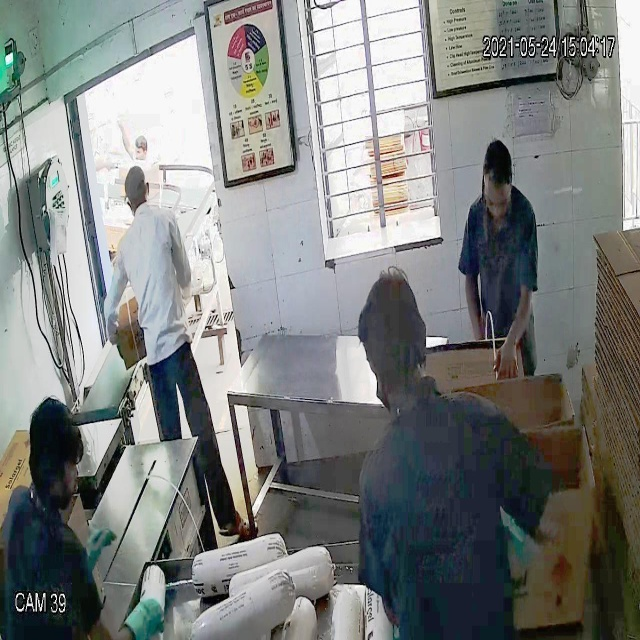Gafas: (480, 182, 512, 215)
